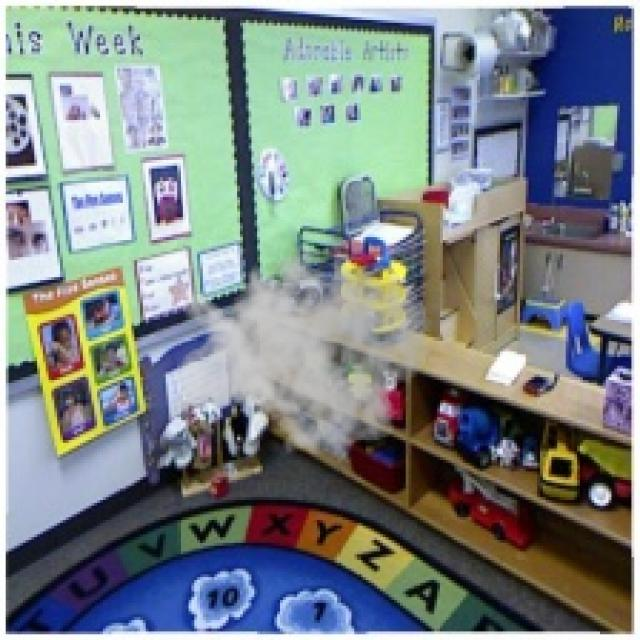smoke: (172, 228, 432, 468)
